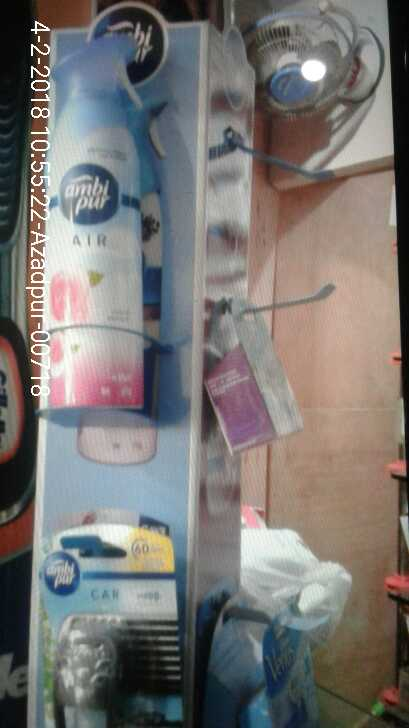home: (40, 40, 158, 419)
